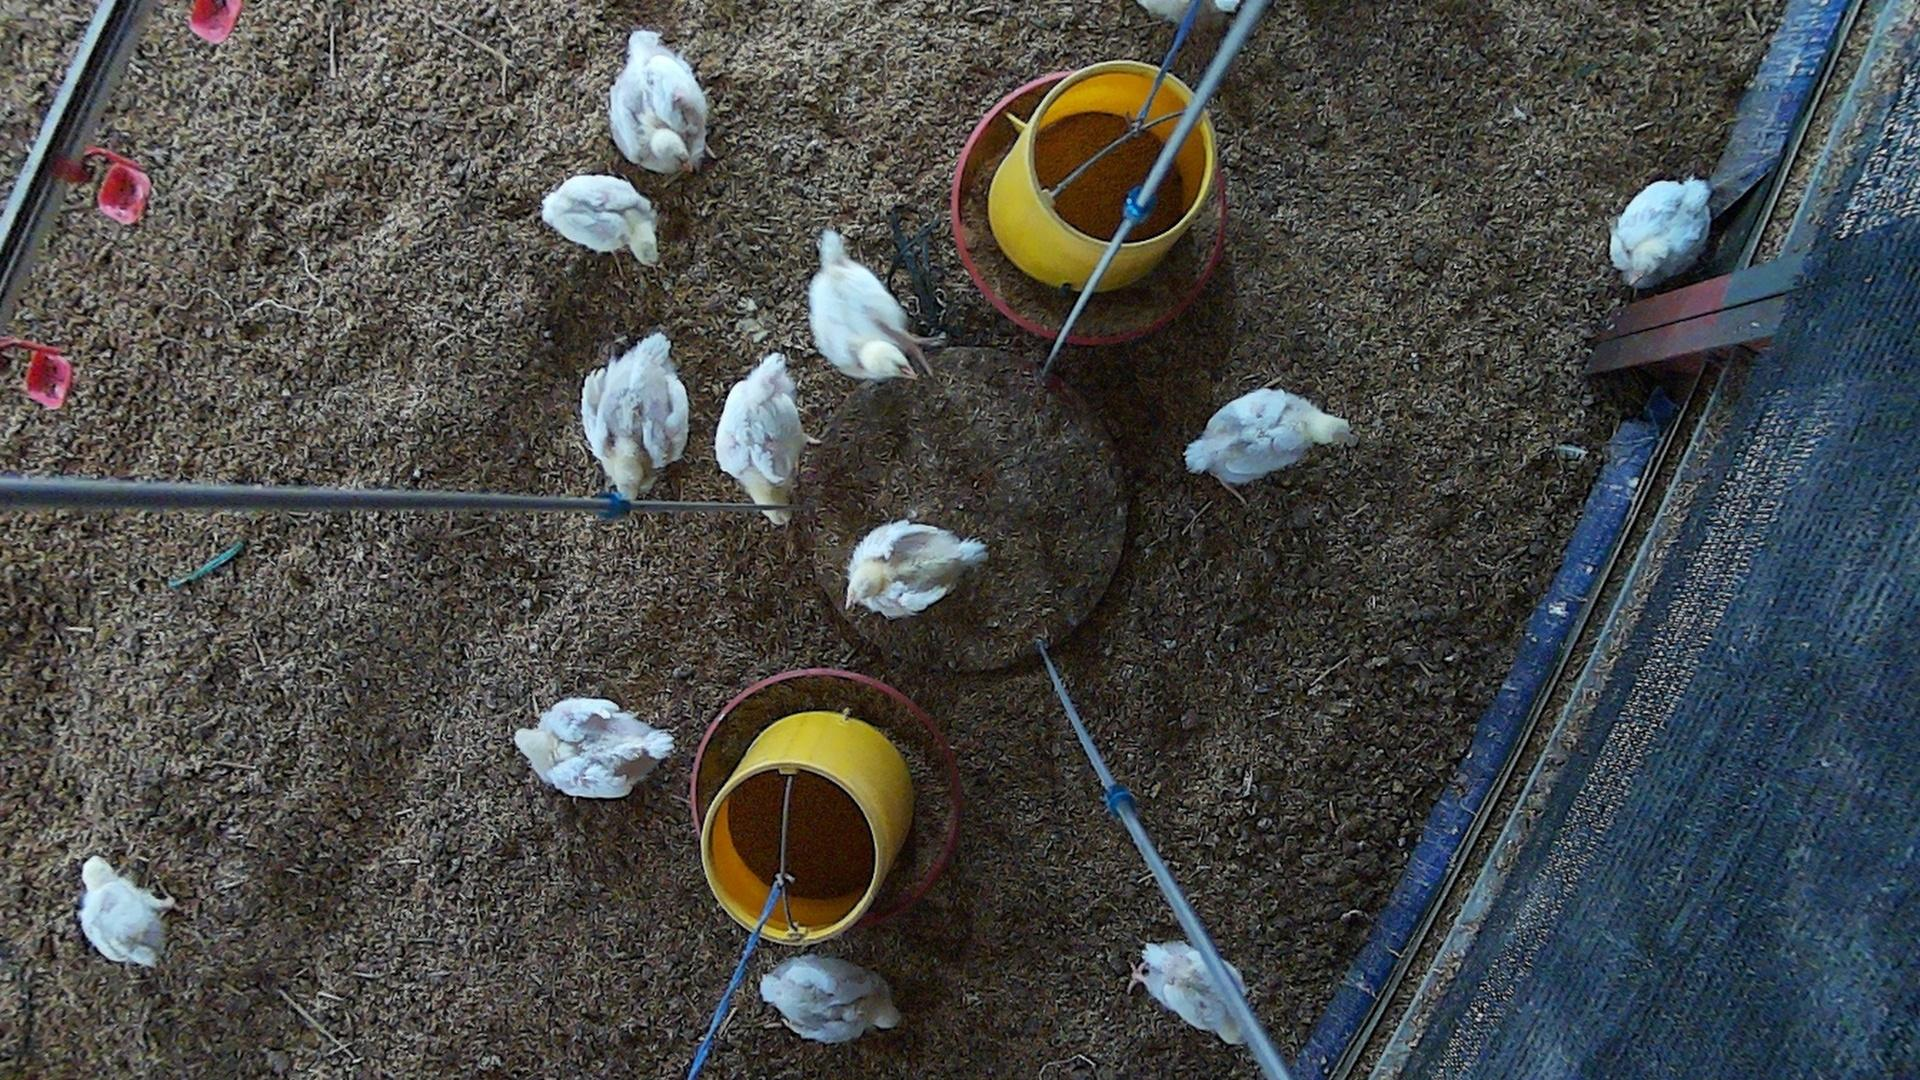ayam_broiler: (810, 228, 936, 381), (582, 332, 688, 497), (514, 699, 675, 799), (1187, 388, 1349, 487), (716, 355, 814, 517), (609, 30, 708, 174), (847, 521, 984, 618), (758, 953, 901, 1044), (1126, 938, 1247, 1043), (1611, 181, 1712, 289), (542, 174, 659, 264), (80, 857, 175, 967)
